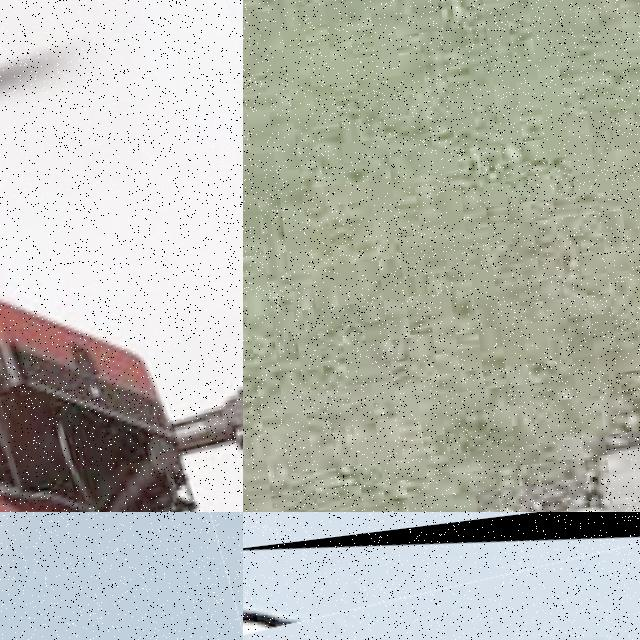drone: (0, 0, 243, 512), (243, 512, 640, 640), (0, 512, 243, 640)
